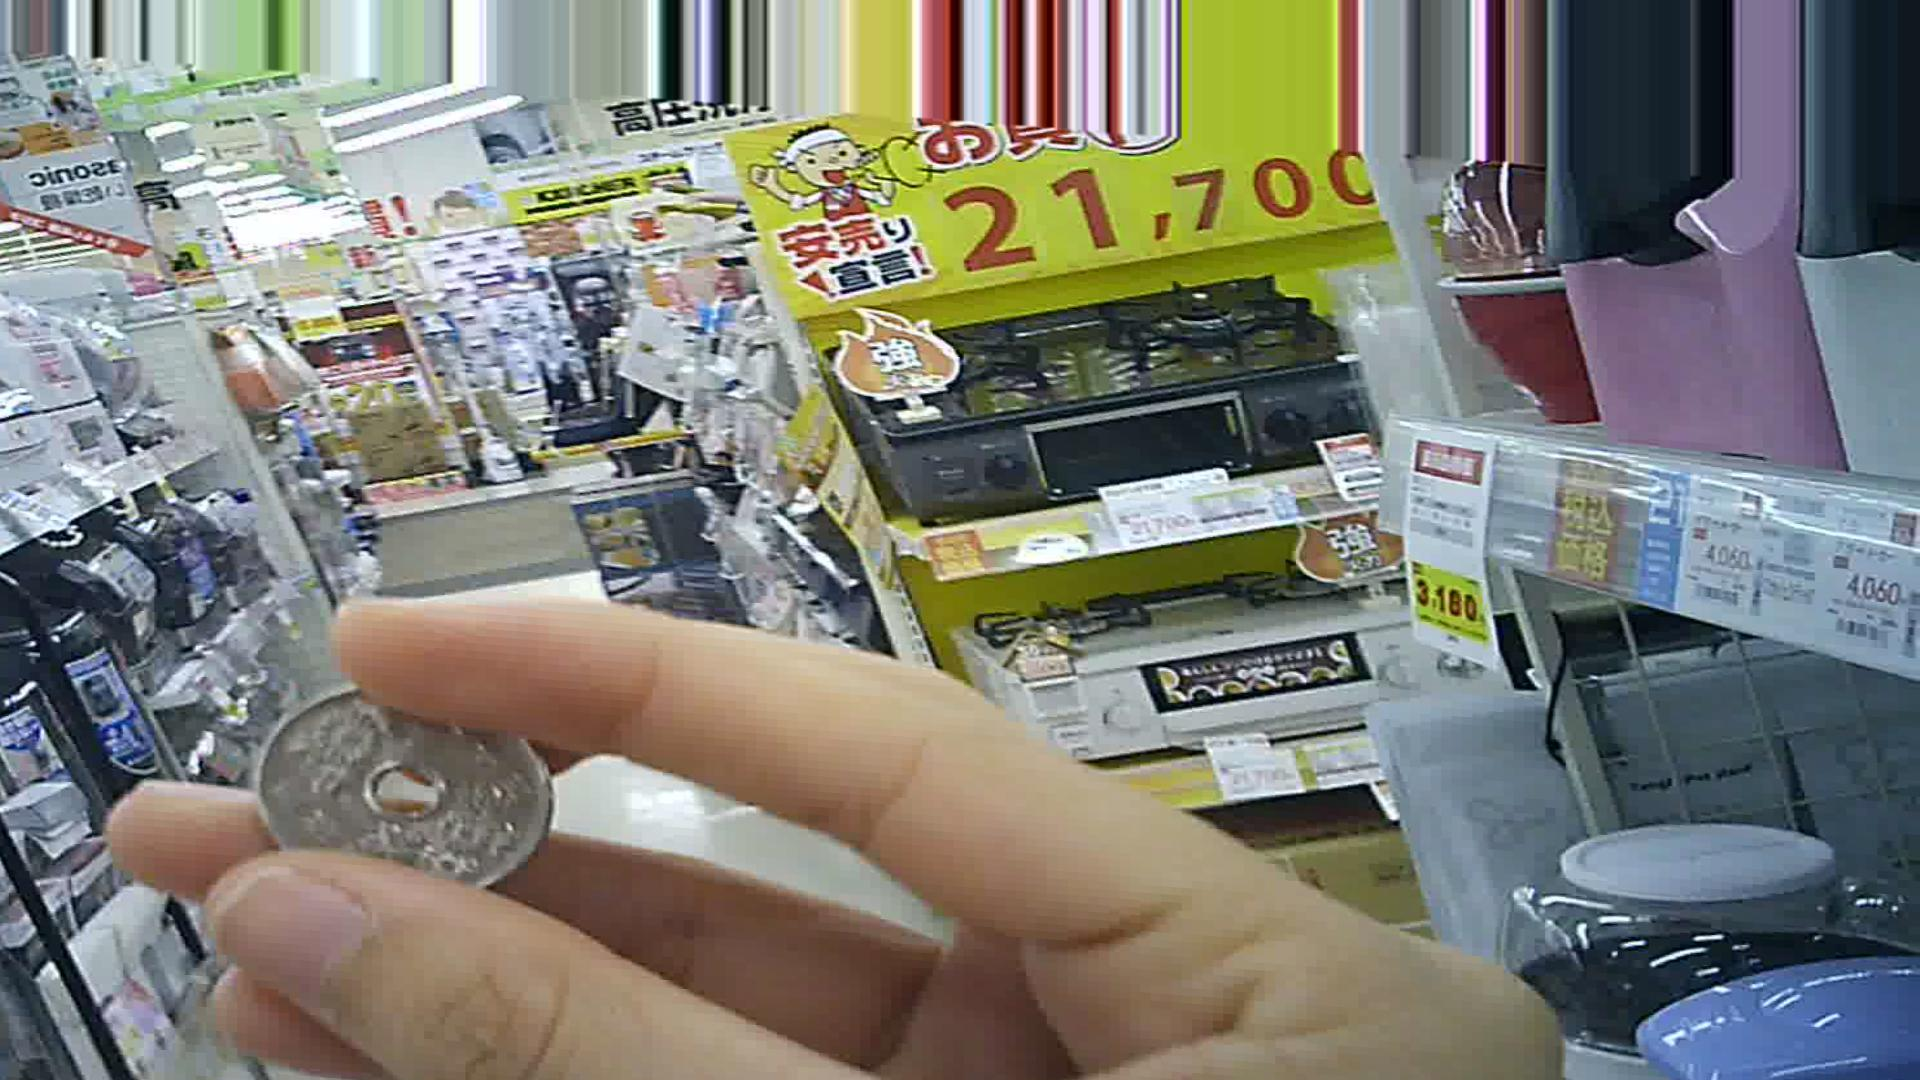50 Yen: (244, 684, 562, 913)
